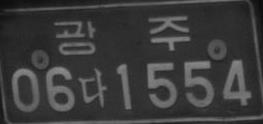0: (10, 67, 41, 113)
1: (110, 62, 139, 110)
4: (222, 59, 252, 107)
5: (145, 61, 178, 110), (183, 59, 215, 109)
6: (44, 65, 75, 113)
광주_D: (53, 14, 190, 56)
다: (77, 67, 108, 108)
